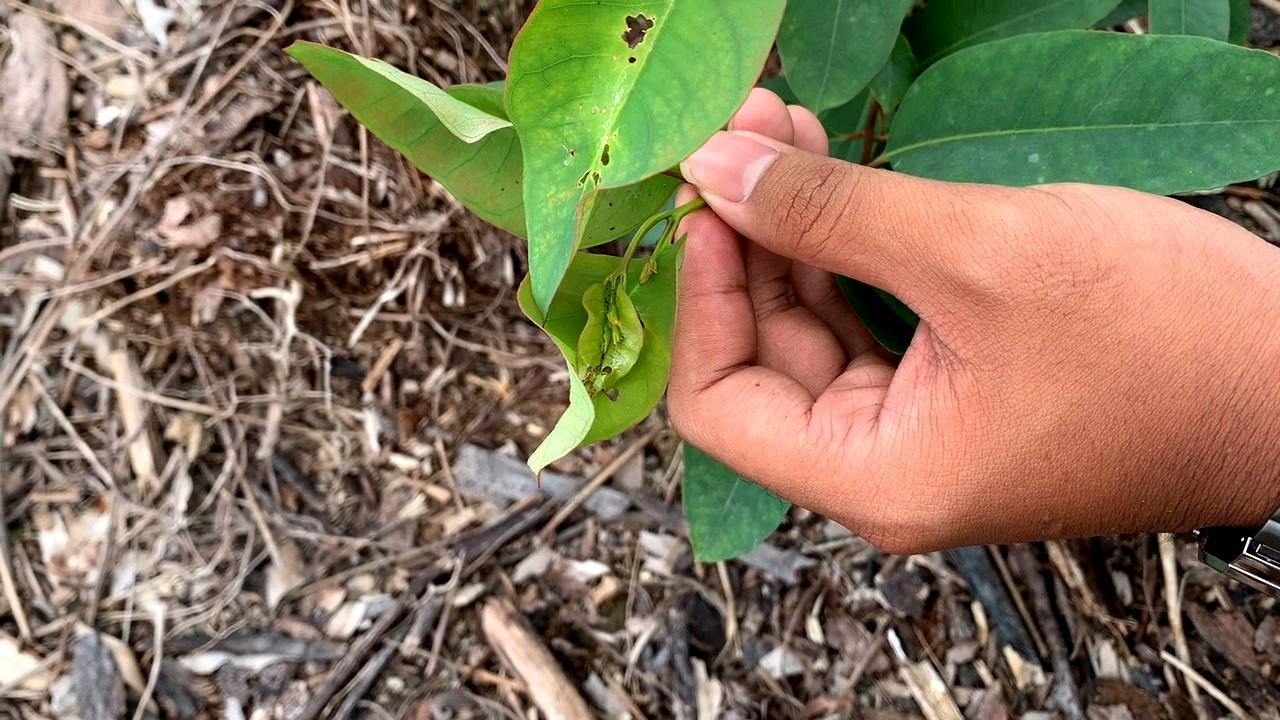Leaf Roller - Leaf: (548, 253, 667, 456)
